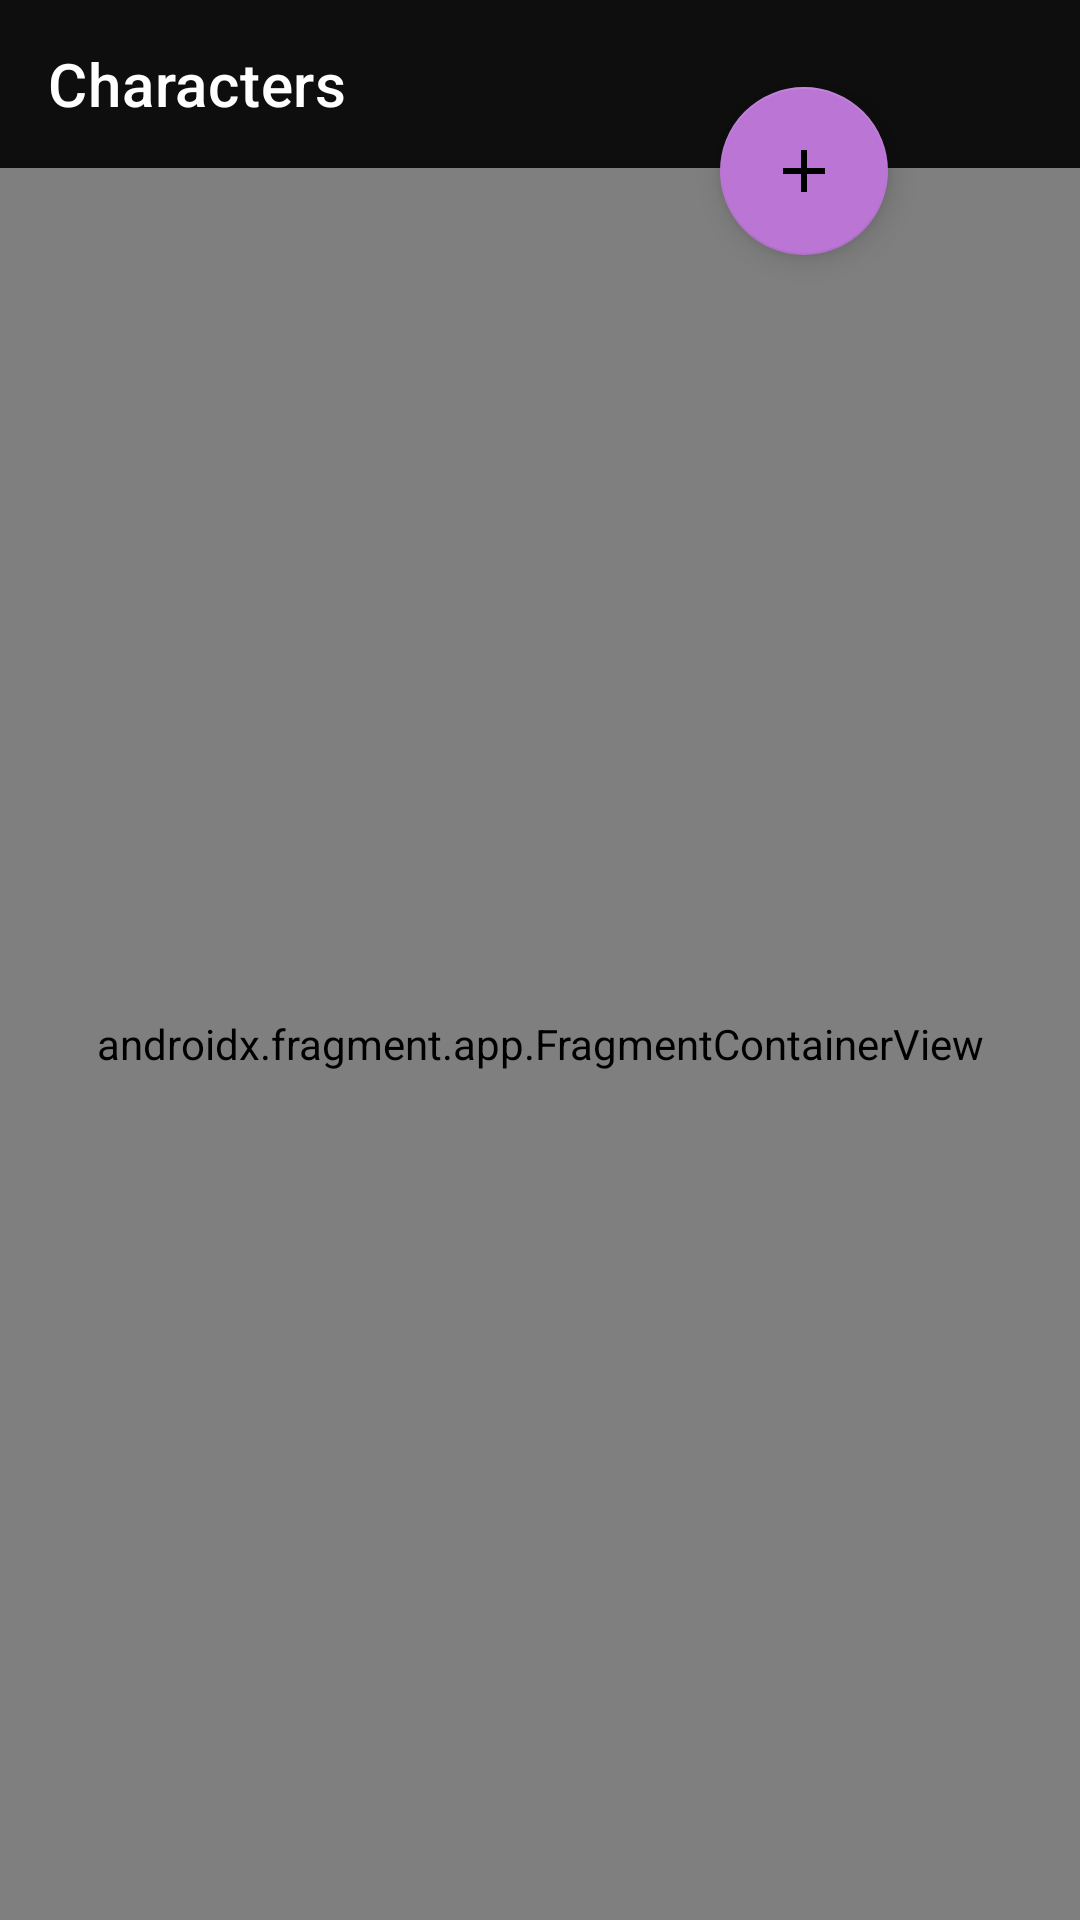

Point at icon controls on the screen. Image size 1080px x 1920px, points as (x=x, y=y).
add: (x=804, y=171)
